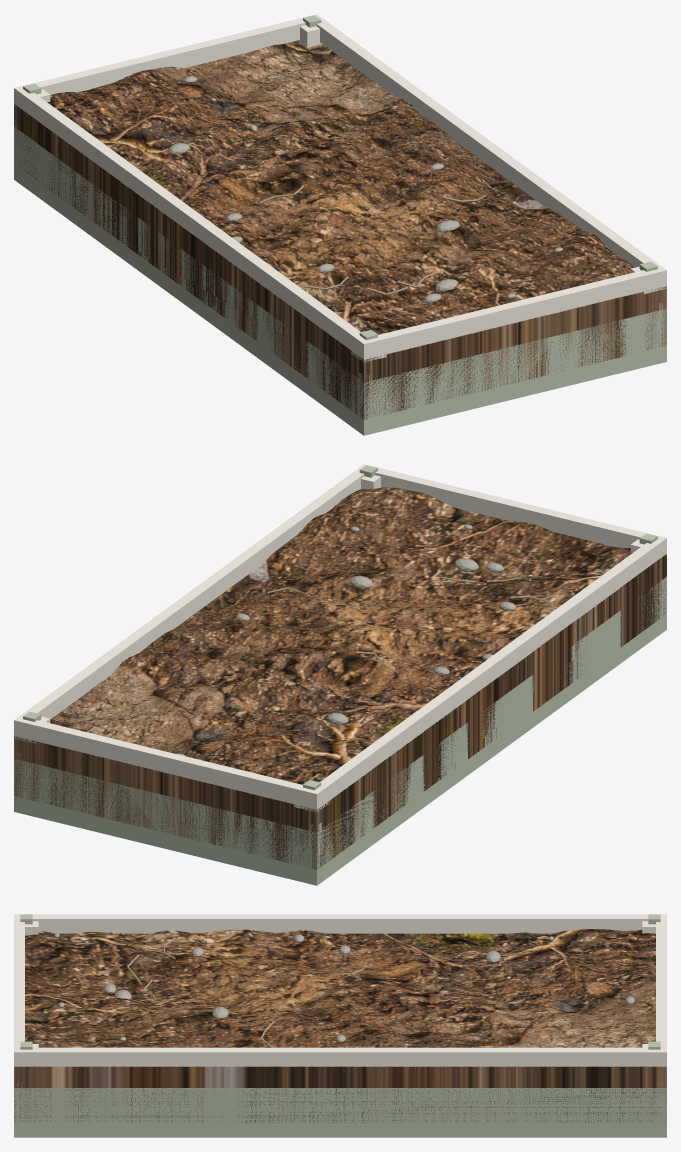
File: s03-untreated-half-west.glb
3 renders of one model, top to bottom at view 1: azimuth 30°, elevation 25°; view 2: azimuth 150°, elevation 25°; view 3: azimuth 270°, elevation 25°, orthographic. The views are drawn at different scales.
Visible parts, largest first — view 1: S03_Physical_Untreated_Soil_Top_RealRelief, S03_Frame_Sage_Solid_Bottom, S03_Cream_Rim_W, S03_Cream_Rim_E, S03_Cream_Rim_N, S03_Cream_Rim_S; view 2: S03_Physical_Untreated_Soil_Top_RealRelief, S03_Frame_Sage_Solid_Bottom, S03_Cream_Rim_W, S03_Cream_Rim_E, S03_Cream_Rim_S, S03_Cream_Rim_N; view 3: S03_Physical_Untreated_Soil_Top_RealRelief, S03_Frame_Sage_Solid_Bottom, S03_Cream_Rim_E, S03_Cream_Rim_W, S03_Cream_Rim_S, S03_Cream_Rim_N.
Part boxes in pixels (x1=…): S03_Physical_Untreated_Soil_Top_RealRelief: x1=14, y1=40, x2=666, y2=419; S03_Frame_Sage_Solid_Bottom: x1=14, y1=126, x2=666, y2=435; S03_Cream_Rim_W: x1=14, y1=86, x2=374, y2=359; S03_Cream_Rim_E: x1=307, y1=15, x2=666, y2=288; S03_Cream_Rim_N: x1=358, y1=267, x2=666, y2=359; S03_Cream_Rim_S: x1=14, y1=14, x2=322, y2=107; S03_Physical_Untreated_Soil_Top_RealRelief: x1=14, y1=487, x2=666, y2=869; S03_Frame_Sage_Solid_Bottom: x1=14, y1=576, x2=666, y2=885; S03_Cream_Rim_W: x1=306, y1=536, x2=666, y2=808; S03_Cream_Rim_E: x1=14, y1=464, x2=373, y2=738; S03_Cream_Rim_S: x1=14, y1=716, x2=322, y2=809; S03_Cream_Rim_N: x1=358, y1=464, x2=666, y2=554; S03_Physical_Untreated_Soil_Top_RealRelief: x1=14, y1=929, x2=666, y2=1122; S03_Frame_Sage_Solid_Bottom: x1=14, y1=1088, x2=666, y2=1137; S03_Cream_Rim_E: x1=14, y1=1047, x2=666, y2=1066; S03_Cream_Rim_W: x1=14, y1=914, x2=666, y2=933; S03_Cream_Rim_S: x1=656, y1=914, x2=666, y2=1066; S03_Cream_Rim_N: x1=14, y1=914, x2=24, y2=1066.
Bounding box in the file's own units: 0.5 × 0.149 × 1.
Materials: 8 (1 with a texture image).
